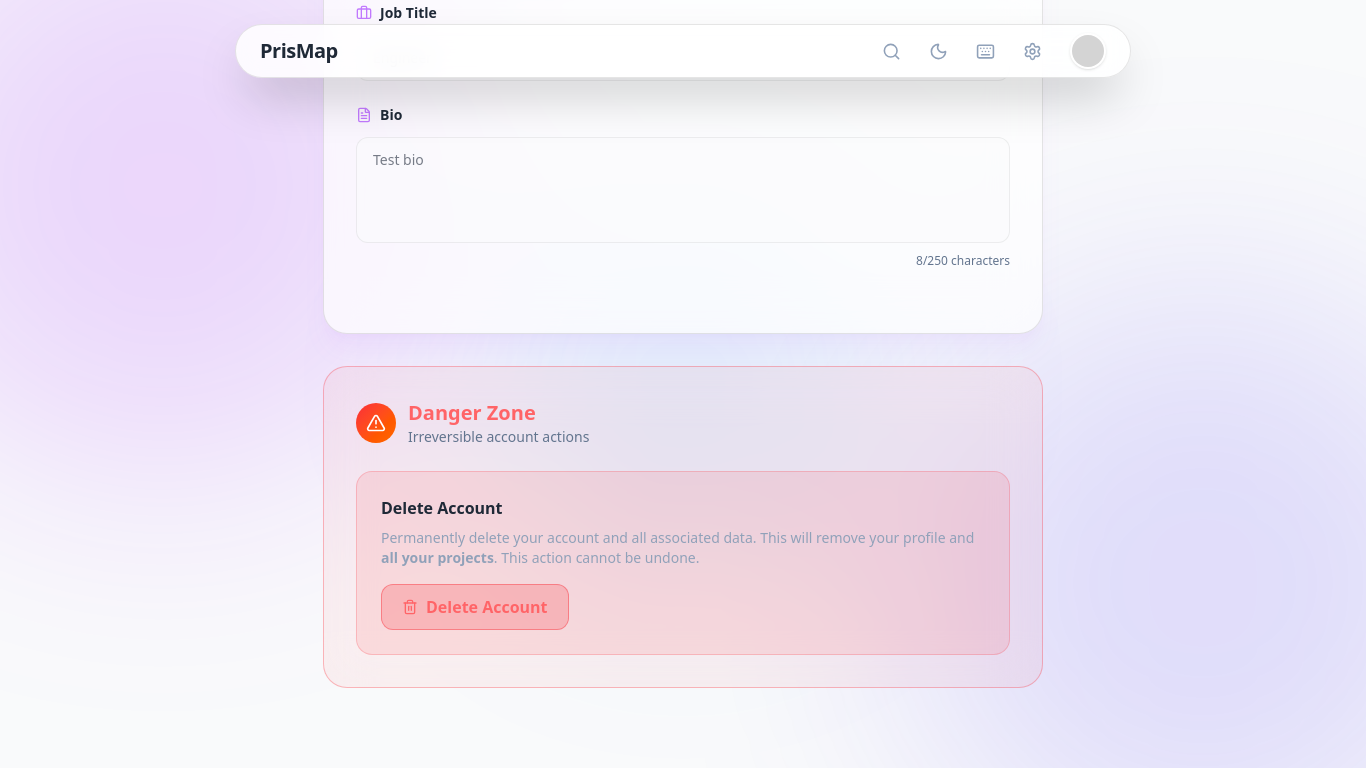
Scenario: Settings Page Integration Tests › Cancel button closes delete modal
The width and height of the screenshot is (1366, 768).
(page scrolled)
// Open modal
Click the button "Delete Account": [475, 607] box [381,584,569,630]
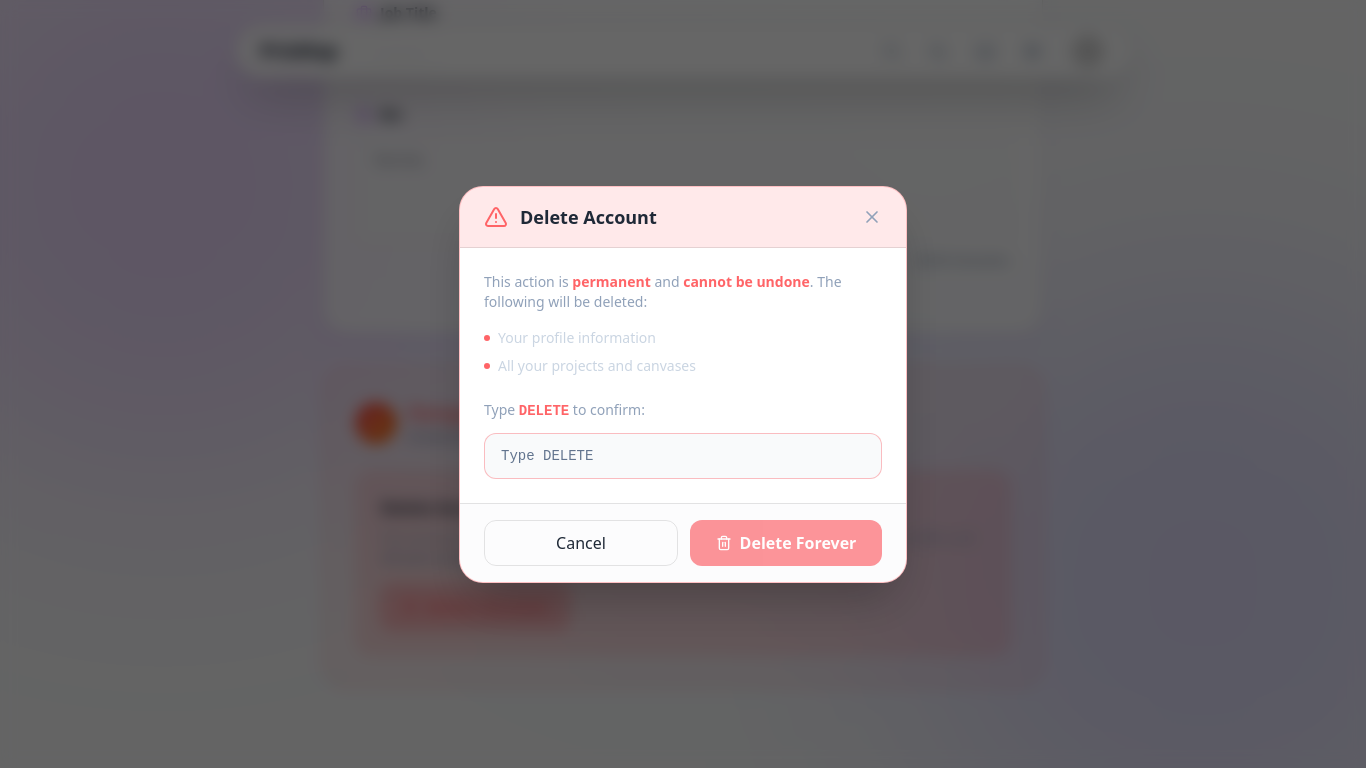
Expected: the field with placeholder "Type DELETE" is shown, [484,432,882,478]
// The last Cancel is the modal footer cancel
Click the button "Cancel": [581, 542] box [484,520,678,566]
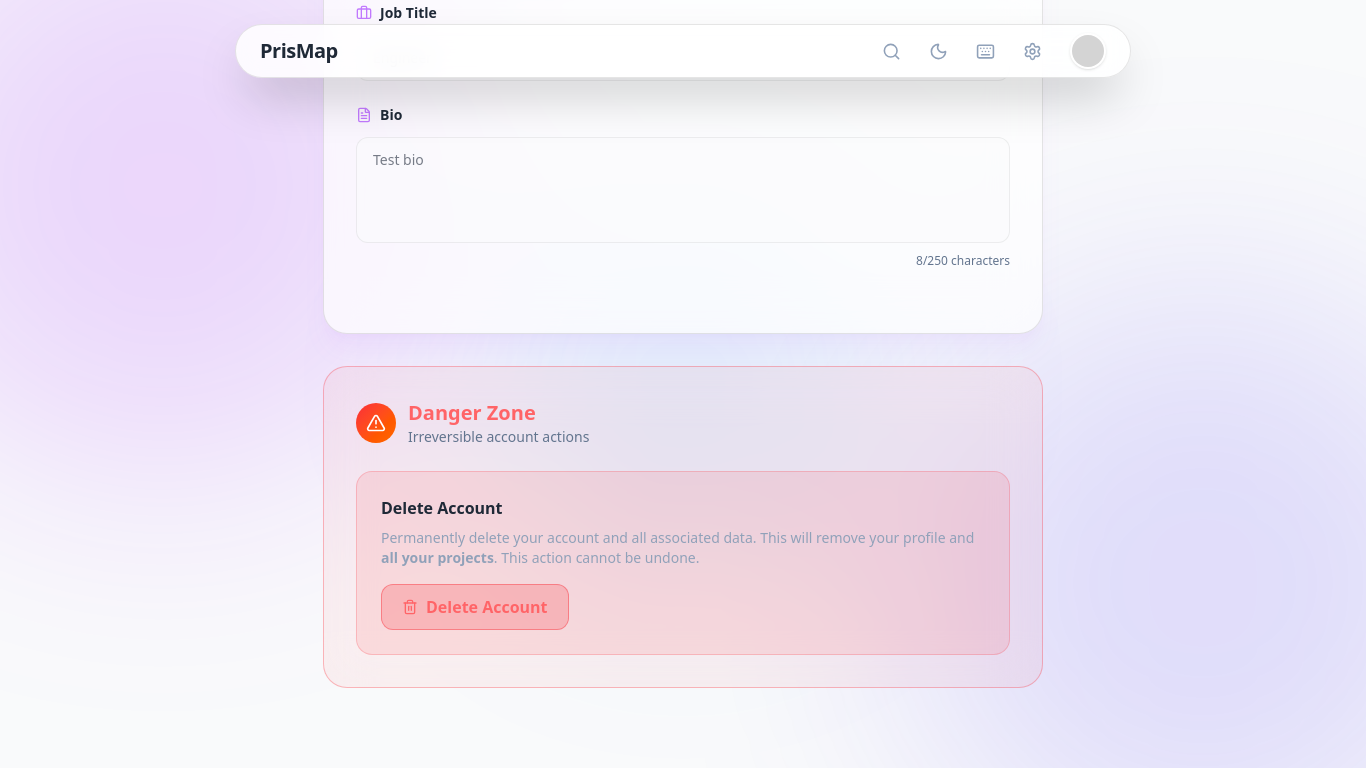
Expected: the field with placeholder "Type DELETE" is gone
